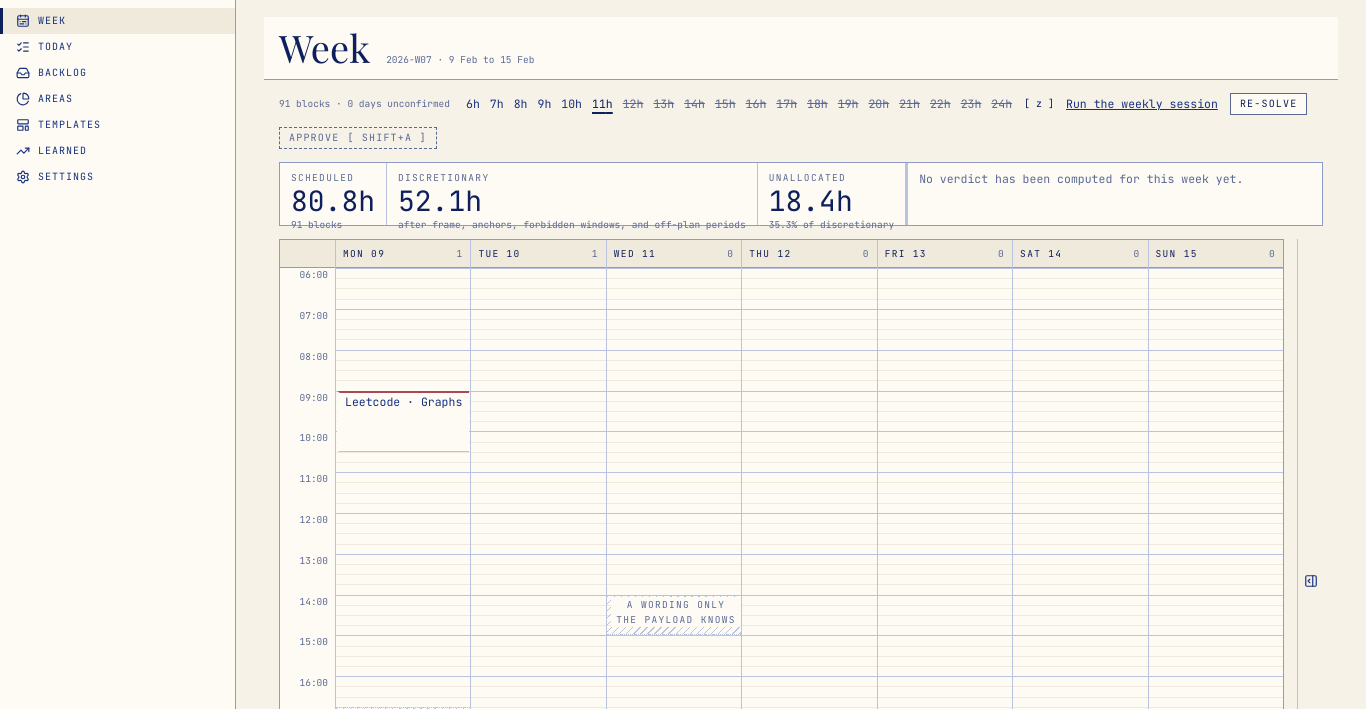
it: the detail panel › opens on selection and states the block's definition rows
Click the button "Leetcode · Graphs": [403, 421] box [337,390,469,452]
(page scrolled)
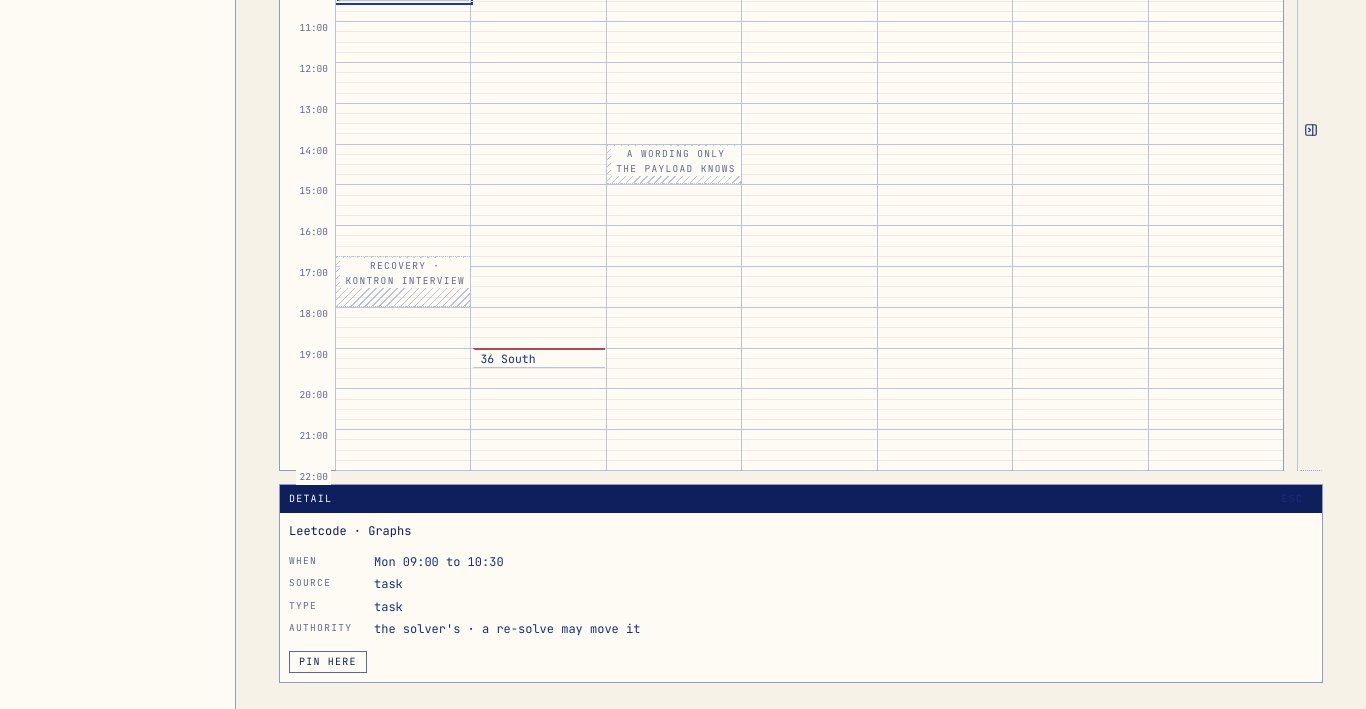
Expected: the text "when" is shown, [289,554,317,567]
Expected: the text "Mon 09:00 to 10:30" is shown, [374,554,504,570]
Expected: the text "source" is shown, [289,576,331,589]
